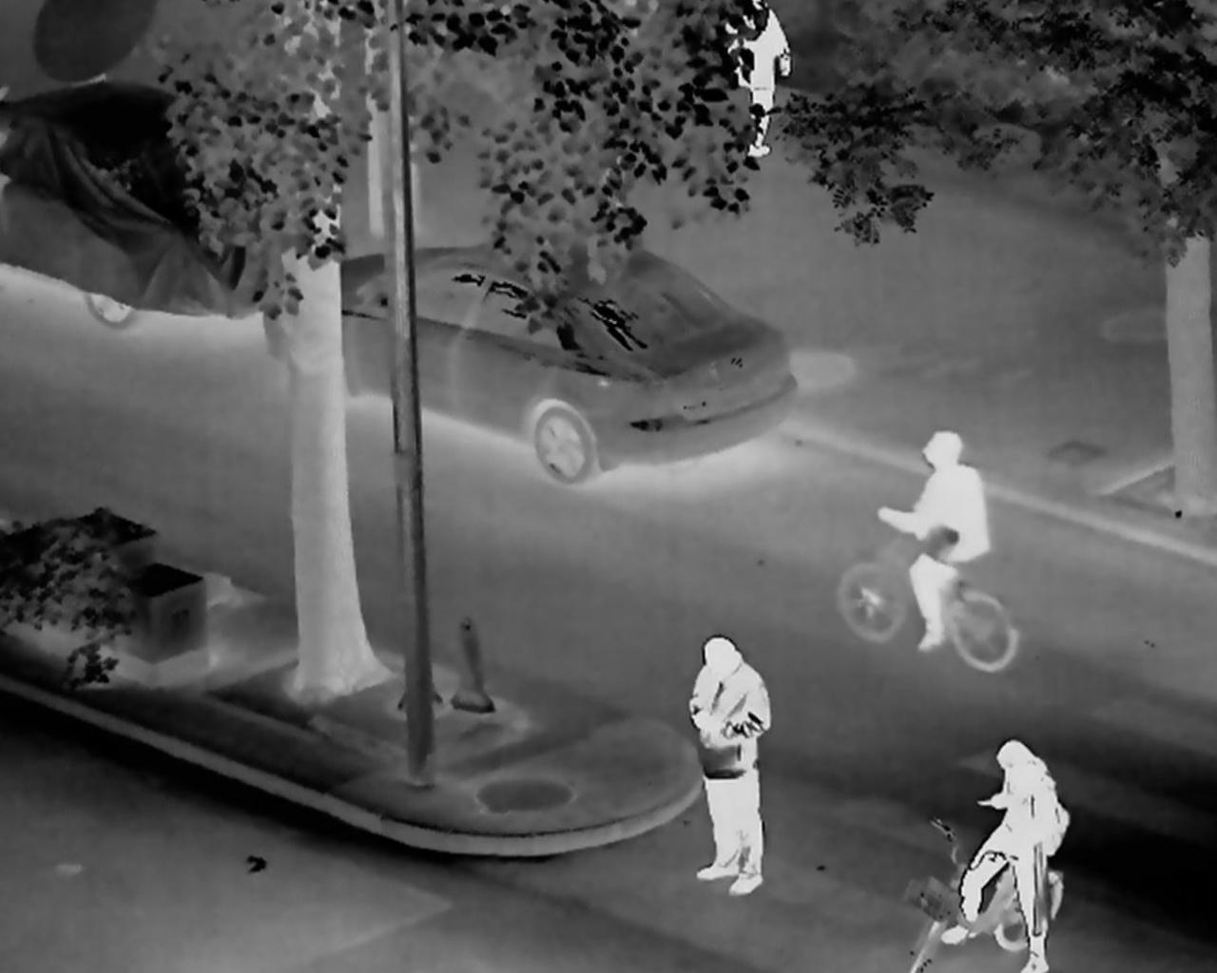person: (945, 740, 1066, 973), (880, 431, 995, 651), (686, 637, 771, 901)
